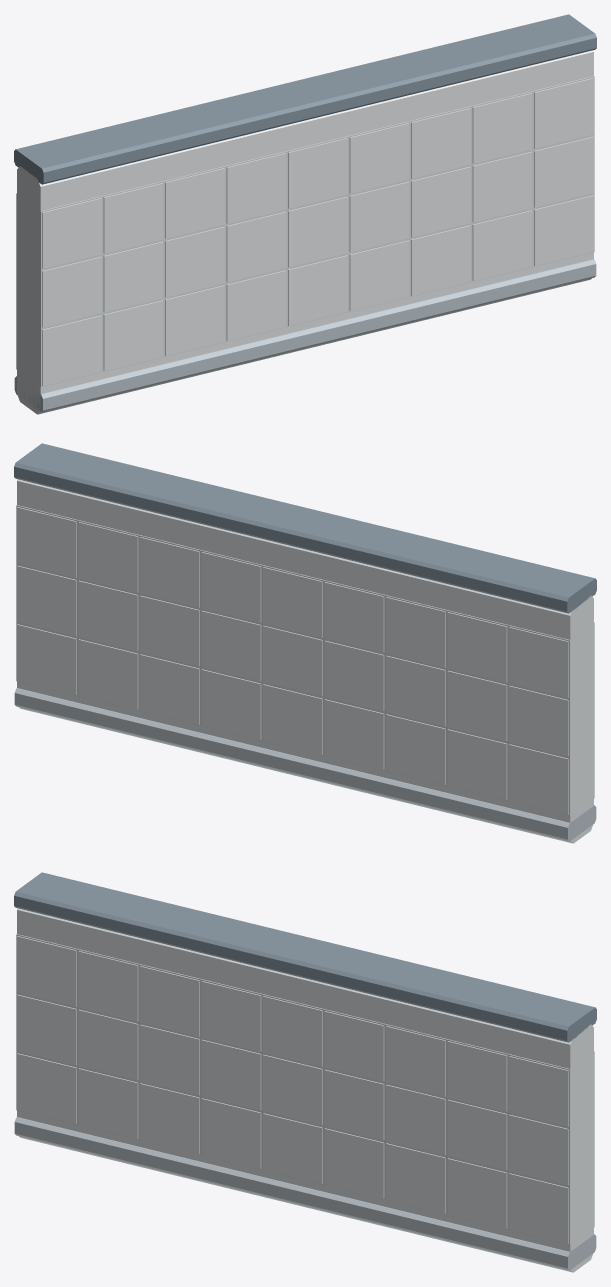
Rendered from wall_restaurant_kitchen.glb.
The picture shows the model from 3 angles, top to bottom: view 1: azimuth 30°, elevation 25°; view 2: azimuth 150°, elevation 25°; view 3: azimuth 330°, elevation 25°; orthographic projection.
Parts seen in each view (by area): view 1: Part_001, Part_002, Part_003, Part_005, Part_053, Part_013, Part_021, Part_045, Part_049, Part_057, Part_009, Part_017 (+19 smaller); view 2: Part_001, Part_002, Part_003, Part_004, Part_052, Part_012, Part_020, Part_044, Part_048, Part_056, Part_008, Part_016 (+19 smaller); view 3: Part_001, Part_002, Part_003, Part_005, Part_049, Part_009, Part_017, Part_045, Part_053, Part_057, Part_013, Part_021 (+19 smaller).
Boxes of the visible parts, box(x1,y1,x2,y2) form: Part_001: box(17, 50, 593, 414); Part_002: box(14, 14, 596, 184); Part_003: box(14, 259, 596, 412); Part_005: box(40, 76, 594, 387); Part_053: box(349, 123, 409, 193); Part_013: box(226, 270, 286, 340); Part_021: box(472, 210, 532, 280); Part_045: box(103, 183, 163, 253); Part_049: box(226, 153, 286, 223); Part_057: box(472, 93, 532, 163); Part_009: box(103, 300, 163, 370); Part_017: box(349, 240, 409, 310); Part_001: box(17, 479, 593, 843); Part_002: box(14, 443, 596, 613); Part_003: box(14, 688, 596, 841); Part_004: box(16, 505, 570, 816); Part_052: box(201, 552, 261, 622); Part_012: box(324, 699, 384, 769); Part_020: box(78, 639, 138, 709); Part_044: box(447, 612, 507, 682); Part_048: box(324, 582, 384, 652); Part_056: box(78, 522, 138, 592); Part_008: box(447, 729, 507, 799); Part_016: box(201, 669, 261, 739); Part_001: box(17, 908, 593, 1272); Part_002: box(14, 872, 596, 1042); Part_003: box(14, 1117, 596, 1270); Part_005: box(16, 934, 570, 1245); Part_049: box(201, 981, 261, 1051); Part_009: box(78, 1068, 138, 1138); Part_017: box(324, 1128, 384, 1198); Part_045: box(78, 951, 138, 1021); Part_053: box(324, 1011, 384, 1081); Part_057: box(447, 1041, 507, 1111); Part_013: box(201, 1098, 261, 1168); Part_021: box(447, 1158, 507, 1228).
Bounding box in the file's own units: 2.7 × 1.16 × 0.25.
